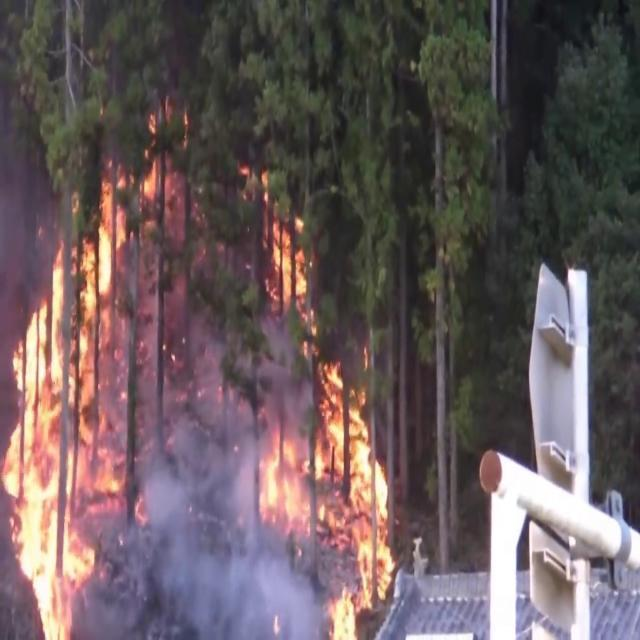Fire: (242, 207, 398, 613), (0, 184, 134, 636), (120, 85, 182, 234)
Smoke: (100, 319, 316, 630)
